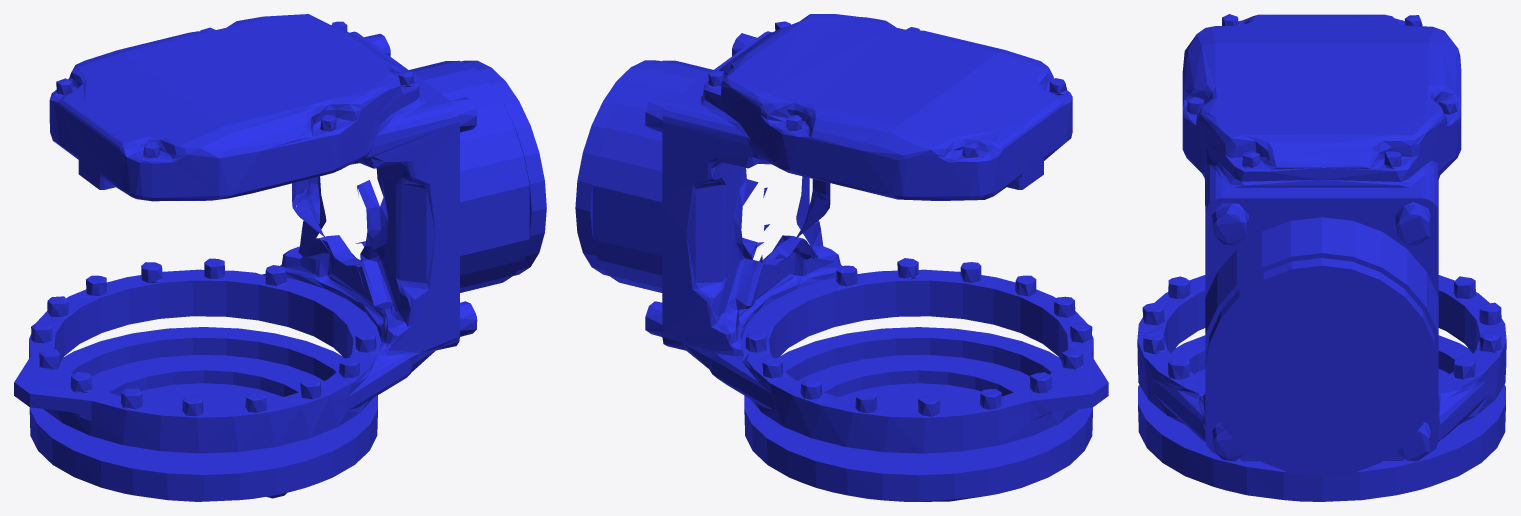
3 renders of one model, left to right at view 1: azimuth 30°, elevation 25°; view 2: azimuth 150°, elevation 25°; view 3: azimuth 270°, elevation 25°, orthographic. The views are drawn at different scales.
Parts seen in each view (by area): view 1: /Link5/Link5_004-mesh/0; view 2: /Link5/Link5_004-mesh/0; view 3: /Link5/Link5_004-mesh/0.
Part boxes in pixels (x1,y1,x2,y2): /Link5/Link5_004-mesh/0: (14,14,546,501); /Link5/Link5_004-mesh/0: (575,14,1108,501); /Link5/Link5_004-mesh/0: (1137,14,1506,501).
Size of the model in its own units: 0.3435 by 0.2523 by 0.2215.
